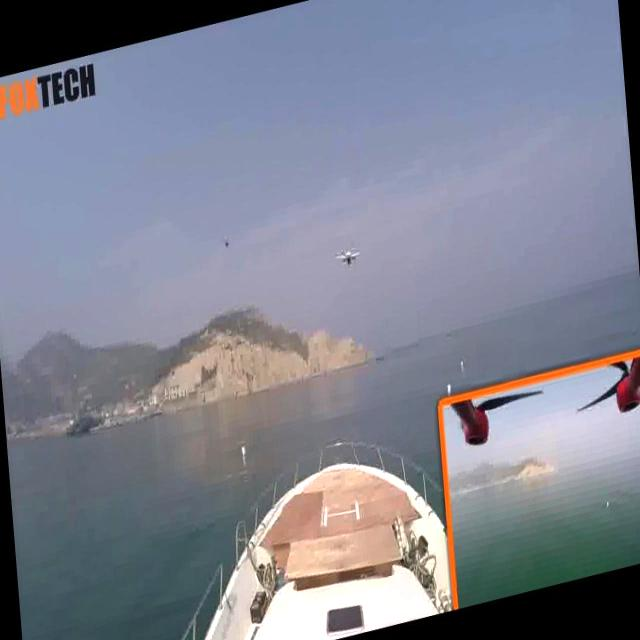drone: (331, 233, 365, 277)
